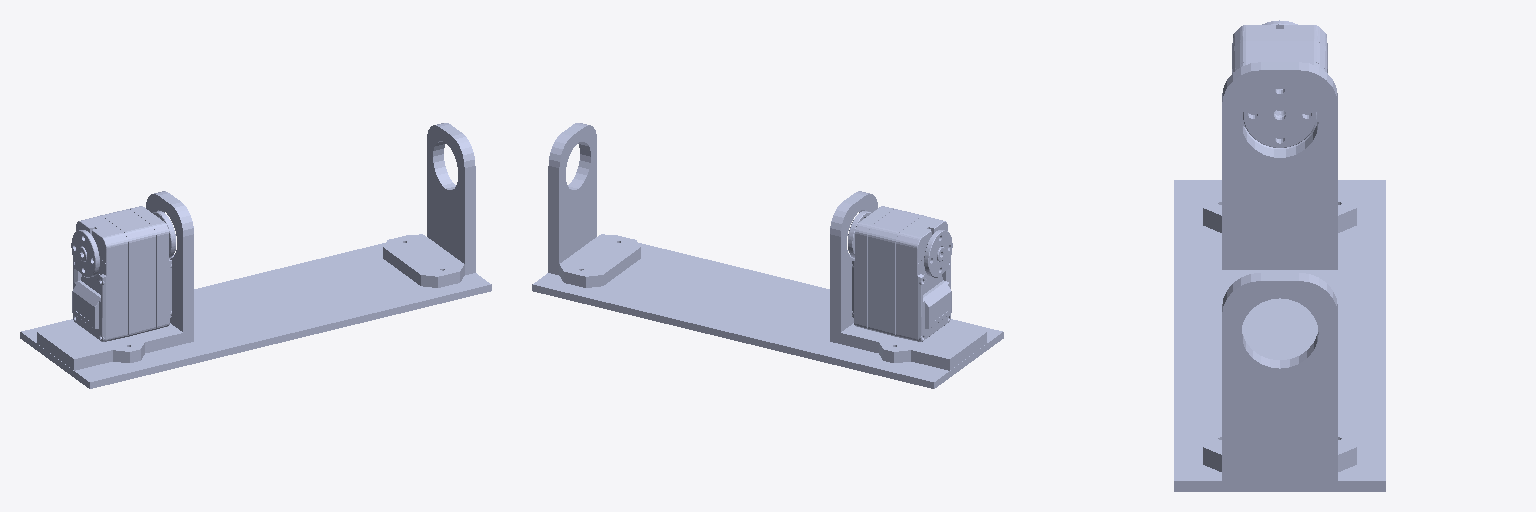
URDF robot description (Simplified_Lidar_Frame):
<?xml version="1.0" encoding="utf-8"?>
<!-- This URDF was automatically created by SolidWorks to URDF Exporter! Originally created by [author] ([email redacted]) 
     Commit Version: 1.6.0-1-g15f4949  Build Version: 1.6.7594.29634
     For more information, please see http://wiki.ros.org/sw_urdf_exporter -->
<robot
  name="Simplified_Lidar_Frame">
  <link
    name="base_link">
    <inertial>
      <origin
        xyz="-0.025473 0.018501 -6.5991E-05"
        rpy="0 0 0" />
      <mass
        value="0" />
      <inertia
        ixx="0"
        ixy="0"
        ixz="0"
        iyy="0"
        iyz="0"
        izz="0" />
    </inertial>
    <visual>
      <origin
        xyz="0 0 0"
        rpy="0 0 0" />
      <geometry>
        <mesh
          filename="package://Simplified_Lidar_Frame/meshes/base_link.STL" />
      </geometry>
      <material
        name="">
        <color
          rgba="0.79216 0.81961 0.93333 1" />
      </material>
    </visual>
    <collision>
      <origin
        xyz="0 0 0"
        rpy="0 0 0" />
      <geometry>
        <mesh
          filename="package://Simplified_Lidar_Frame/meshes/base_link.STL" />
      </geometry>
    </collision>
  </link>
  <link
    name="Lidar_Link">
    <inertial>
      <origin
        xyz="0.030677 -0.00027683 0.0019308"
        rpy="0 0 0" />
      <mass
        value="0" />
      <inertia
        ixx="0"
        ixy="0"
        ixz="0"
        iyy="0"
        iyz="0"
        izz="0" />
    </inertial>
    <visual>
      <origin
        xyz="0 0 0"
        rpy="0 0 0" />
      <geometry>
        <mesh
          filename="package://Simplified_Lidar_Frame/meshes/Lidar_Link.STL" />
      </geometry>
      <material
        name="">
        <color
          rgba="0.79216 0.81961 0.93333 1" />
      </material>
    </visual>
    <collision>
      <origin
        xyz="0 0 0"
        rpy="0 0 0" />
      <geometry>
        <mesh
          filename="package://Simplified_Lidar_Frame/meshes/Lidar_Link.STL" />
      </geometry>
    </collision>
  </link>
  <joint
    name="Bearing"
    type="revolute">
    <origin
      xyz="0 0 0.045"
      rpy="-0.27934 0 0" />
    <parent
      link="base_link" />
    <child
      link="Lidar_Link" />
    <axis
      xyz="1 0 0" />
    <limit
      lower="0"
      upper="0"
      effort="0"
      velocity="0" />
  </joint>
</robot>

--- What the picture shows (computed from the rendered views, not written in the file) ---
The picture shows the robot from 3 angles, left to right: view 1: azimuth 30°, elevation 25°; view 2: azimuth 150°, elevation 25°; view 3: azimuth 270°, elevation 25°; orthographic projection.
Model Simplified_Lidar_Frame with 2 links and 1 joints (1 revolute), rooted at base_link, posed all joints at 0.
Visible links, largest first — view 1: base_link; view 2: base_link; view 3: base_link.
Boxes of the visible links, x1,y1,x2,y2 form: base_link: (20,123,491,388); base_link: (532,123,1003,388); base_link: (1174,20,1385,491).
Bounding box of the posed robot: 0.184 × 0.055 × 0.06 m (x, y, z).
1 mesh visuals loaded from 2 distinct referenced files (1 binary STL); not drawn: 1 (reference not matched to a file when rendering).